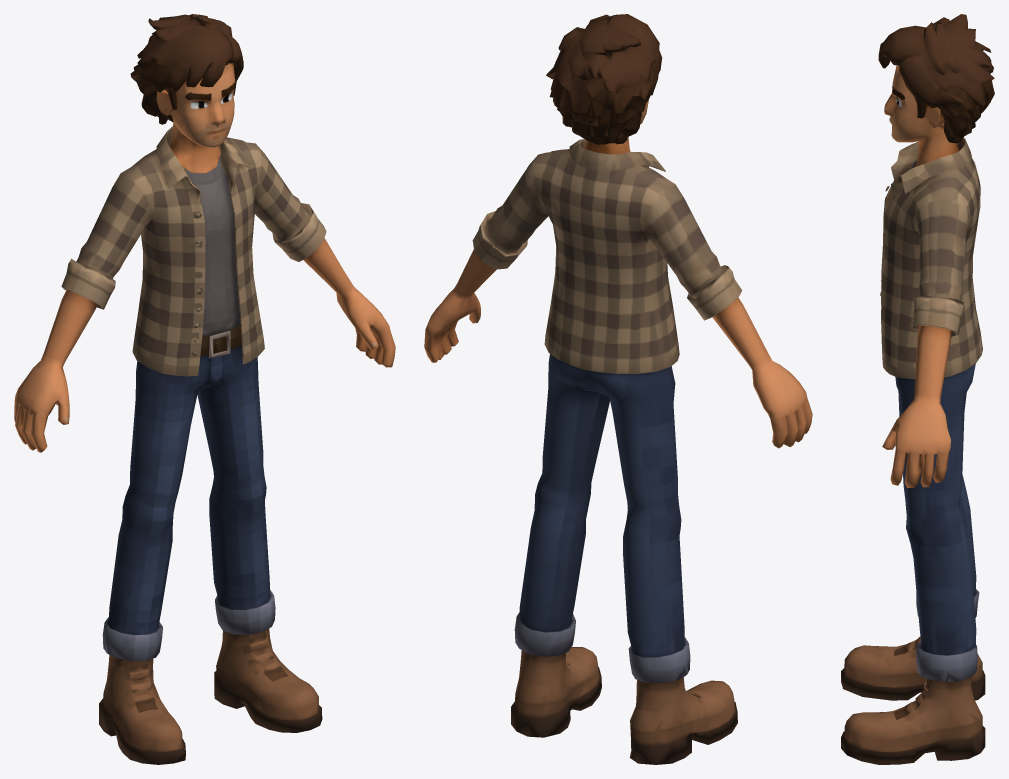
The model's file is plaid_man.glb.
3 views of the same model, side by side, from view 1: azimuth 30°, elevation 25°; view 2: azimuth 150°, elevation 25°; view 3: azimuth 270°, elevation 25° (orthographic). The views are drawn at different scales.
Parts seen in each view (by area): view 1: geometry_0; view 2: geometry_0; view 3: geometry_0.
Boxes of the visible parts, left/top/right/bottom form: geometry_0: left=14, top=14, right=395, bottom=764; geometry_0: left=424, top=14, right=812, bottom=764; geometry_0: left=841, top=14, right=994, bottom=764.
Bounding box in the file's own units: 0.5181 × 0.9507 × 0.1899.
1 material, 1 textured.
